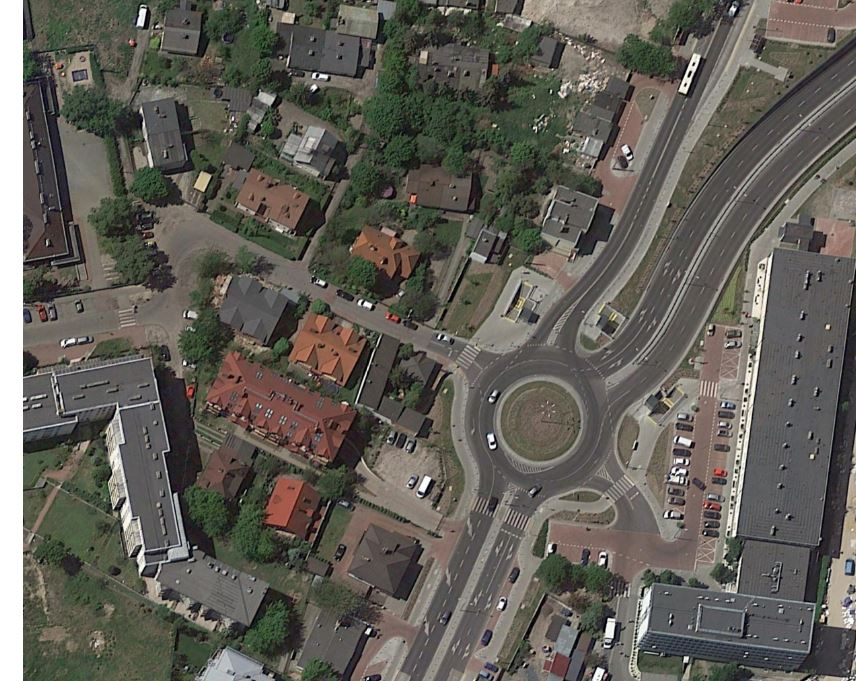block of flats: (626, 238, 856, 671), (24, 353, 274, 631), (204, 350, 358, 471)
family house: (290, 601, 376, 680), (344, 521, 426, 599), (530, 180, 608, 252), (277, 22, 372, 80), (233, 164, 312, 233), (347, 220, 420, 284), (136, 96, 191, 178), (262, 473, 325, 541), (158, 6, 207, 61)
garage: (560, 69, 634, 167), (405, 35, 494, 97), (402, 157, 482, 218), (218, 82, 284, 135)
terrace house: (285, 311, 366, 390), (214, 270, 294, 347)
